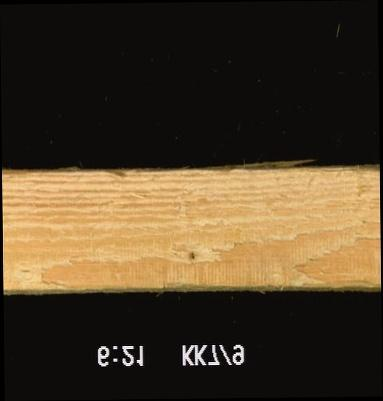small_knot: (184, 249, 198, 263)
